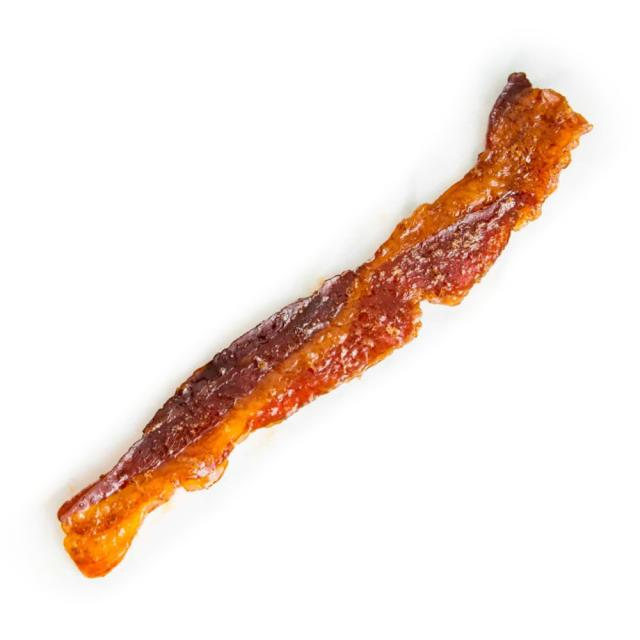Bacon: (58, 72, 590, 578)
